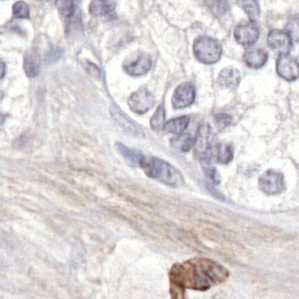Lymphocyte: (172, 258, 225, 296)
